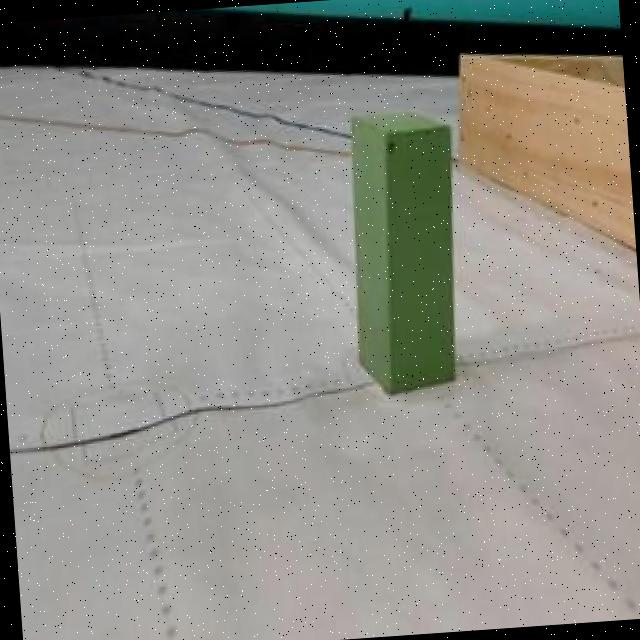greenbox: (338, 101, 470, 395)
